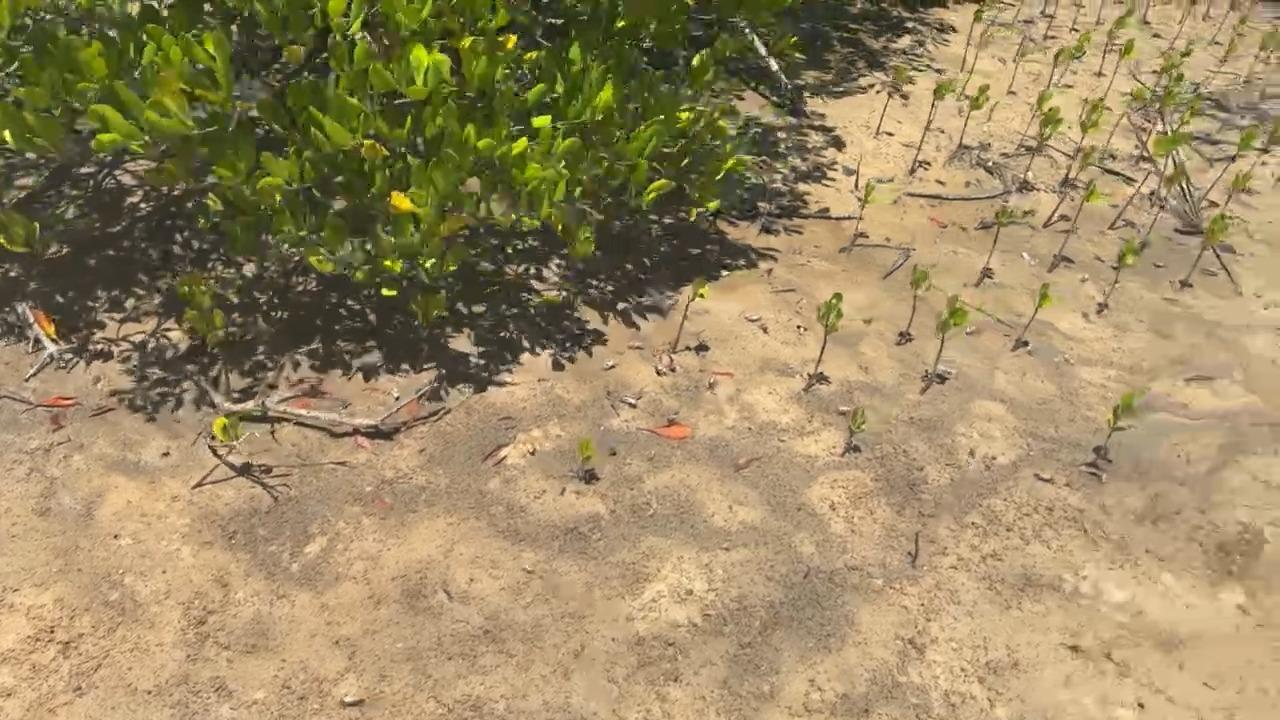Tree: (1108, 128, 1188, 232), (1041, 144, 1101, 230), (1198, 126, 1262, 203), (1047, 180, 1099, 271), (910, 82, 956, 177), (1136, 79, 1189, 158), (1151, 112, 1192, 208), (189, 417, 242, 489), (1063, 97, 1109, 177), (1181, 212, 1229, 287), (1092, 394, 1136, 465), (977, 202, 1014, 285), (1101, 88, 1147, 153), (670, 278, 710, 352), (931, 294, 968, 374), (1146, 163, 1185, 235), (1024, 104, 1063, 175), (813, 293, 845, 375), (1097, 9, 1135, 75), (1103, 241, 1142, 303), (1015, 283, 1053, 344), (1017, 88, 1054, 148), (852, 179, 887, 237), (961, 84, 991, 148), (1103, 41, 1135, 99), (904, 264, 930, 335), (1057, 34, 1092, 86), (1245, 125, 1280, 172), (961, 8, 986, 73), (1158, 41, 1195, 84), (1008, 42, 1037, 93), (1223, 172, 1257, 212), (841, 408, 866, 455), (1257, 29, 1280, 71), (1167, 12, 1192, 49), (1046, 47, 1067, 91), (1209, 11, 1232, 46), (959, 52, 979, 92), (874, 95, 892, 138), (576, 439, 594, 481), (1225, 33, 1242, 63), (1045, 0, 1058, 38), (1069, 0, 1083, 35), (855, 152, 862, 189), (1097, 0, 1103, 26)
